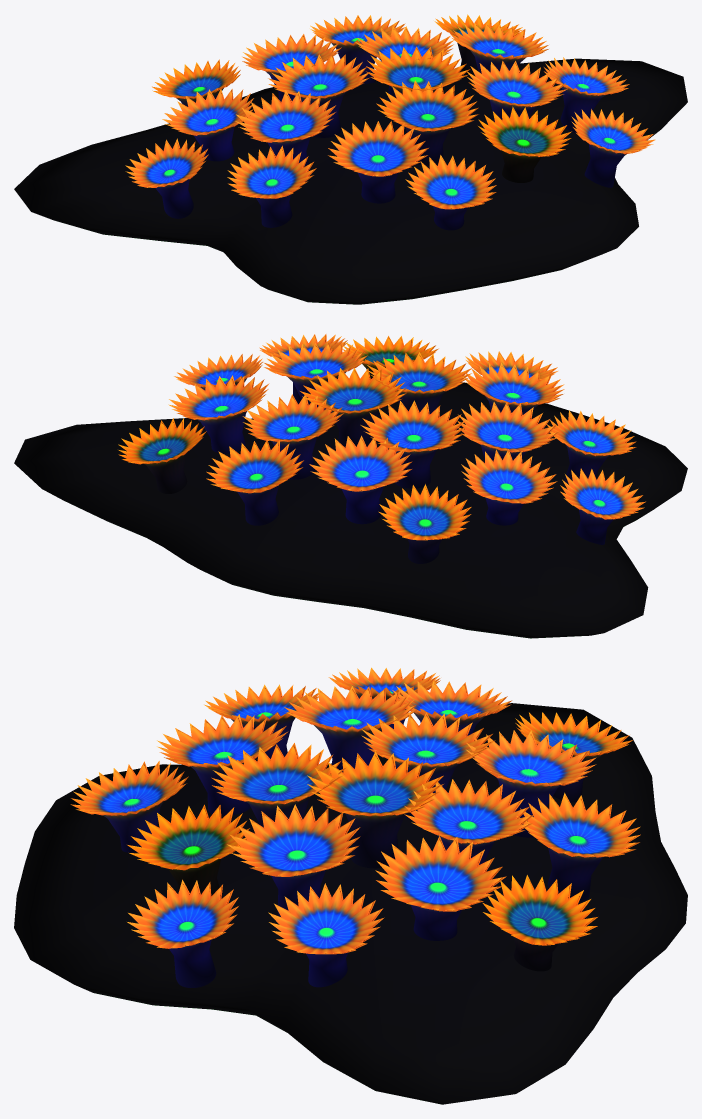
Rendered from coral-zoanthid-mat.glb.
3 views of the same model, one above another, from view 1: azimuth 30°, elevation 25°; view 2: azimuth 150°, elevation 25°; view 3: azimuth 270°, elevation 25° (orthographic). The views are drawn at different scales.
Visible parts, largest first — view 1: Coral_Zoanthid_Mat; view 2: Coral_Zoanthid_Mat; view 3: Coral_Zoanthid_Mat.
Part boxes in pixels (x1,y1,x2,y2): Coral_Zoanthid_Mat: (14,14,687,304); Coral_Zoanthid_Mat: (14,334,687,638); Coral_Zoanthid_Mat: (14,667,687,1104).
Size of the model in its own units: 0.2445 by 0.0424 by 0.1737.
Materials: 1 (1 with a texture image).
